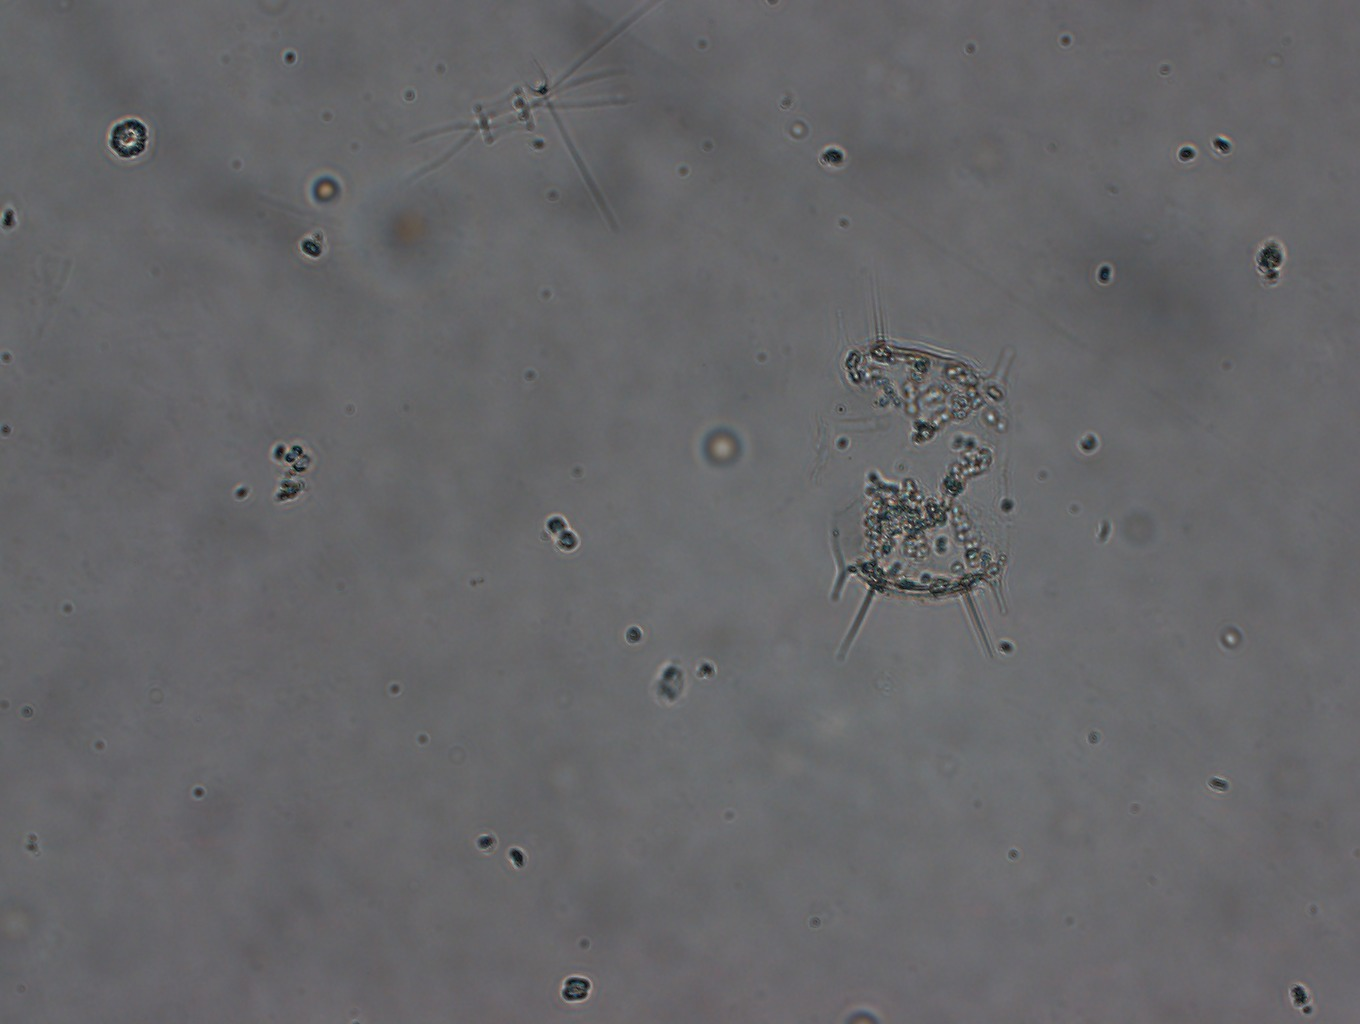biddulphia: (828, 278, 1014, 663)
chaetoceros: (405, 1, 659, 186)
